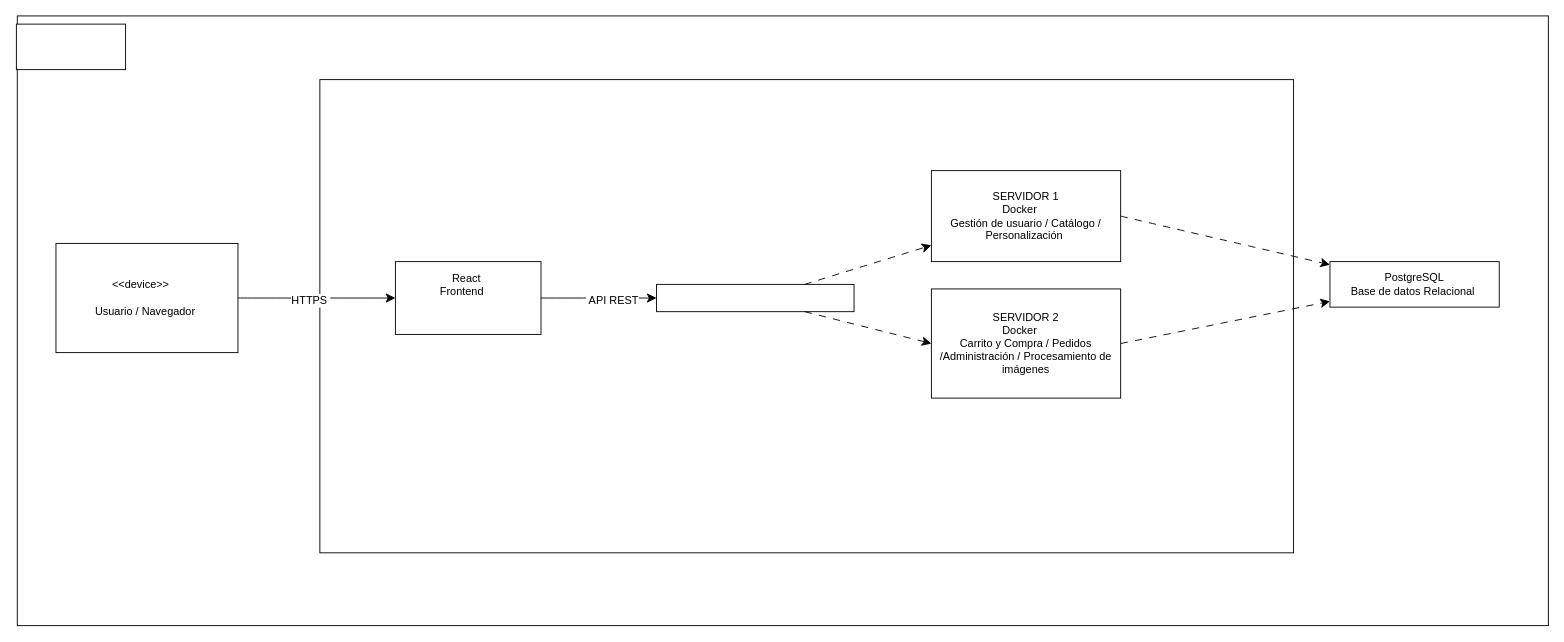
Some shapes in this 1564 by 642 pixel diagram are drawn without their labels. The shapes that lost their labels are listed below. From the top down, each one's centre as x and y in pixels, then its label:
(70,46): CHANGE FUTURE
(755,297): API Gateway Flask
